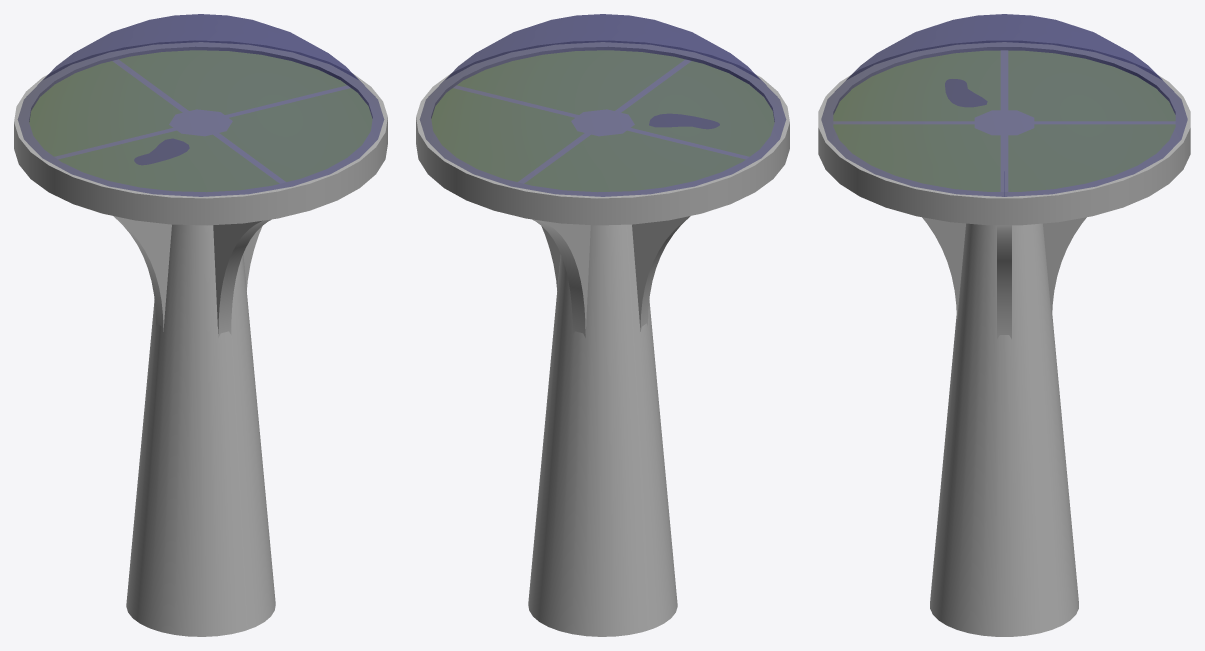
Rendered from arco1_lod1.dae.
3 views of the same model, side by side, from view 1: azimuth 30°, elevation 25°; view 2: azimuth 150°, elevation 25°; view 3: azimuth 270°, elevation 25° (orthographic).
Visible parts, largest first — view 1: arco_lod1_001, z_dome_lod1_001; view 2: arco_lod1_001, z_dome_lod1_001; view 3: arco_lod1_001, z_dome_lod1_001.
Boxes of the visible parts, bbox=[...] form: arco_lod1_001: bbox=[14, 40, 387, 636]; z_dome_lod1_001: bbox=[18, 14, 383, 196]; arco_lod1_001: bbox=[416, 40, 789, 636]; z_dome_lod1_001: bbox=[420, 14, 785, 196]; arco_lod1_001: bbox=[818, 41, 1190, 636]; z_dome_lod1_001: bbox=[821, 14, 1187, 196].
Bounding box in the file's own units: 400 × 400 × 676.
